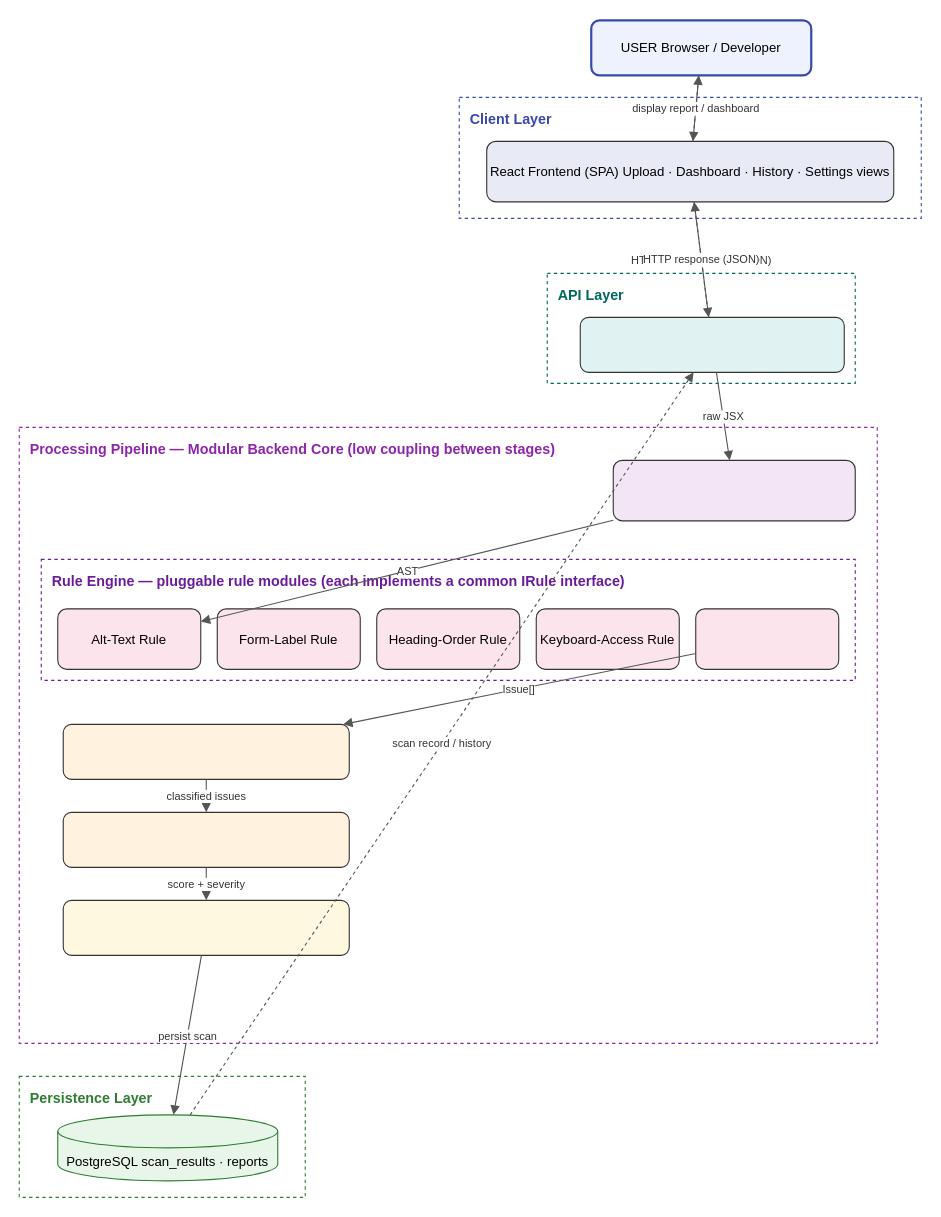
The diagram is 941 pixels wide and 1217 high, and some of its shapes have lost their labels. The shapes that lost their labels are listed below. From the top down, each one's centre as x and y in pixels, then its label:
At (711,344): "FastAPI Backend Request Router / Orchestrator".
At (733,490): "AST Parser Module (Babel: JSX/TSX -> AST)".
At (767,638): "Semantic-HTML Rule".
At (205,751): "Severity Classifier Module".
At (205,839): "Score Calculator Module".
At (205,927): "Report Generator Module".
